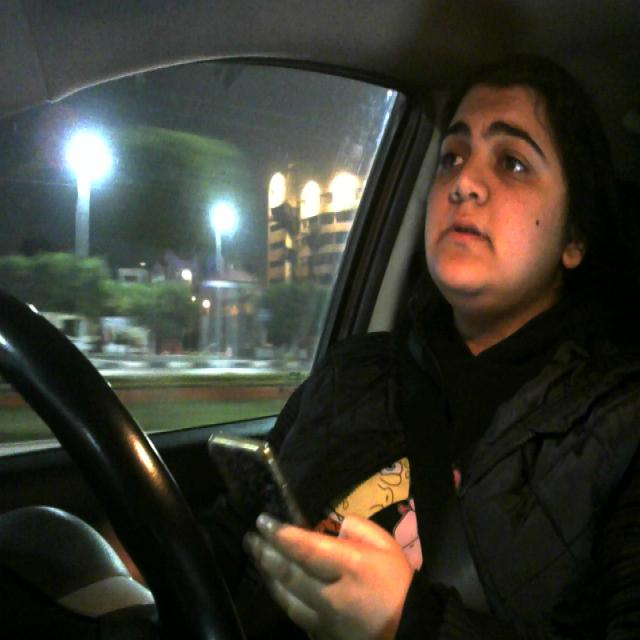mobile use: (206, 414, 320, 596)
